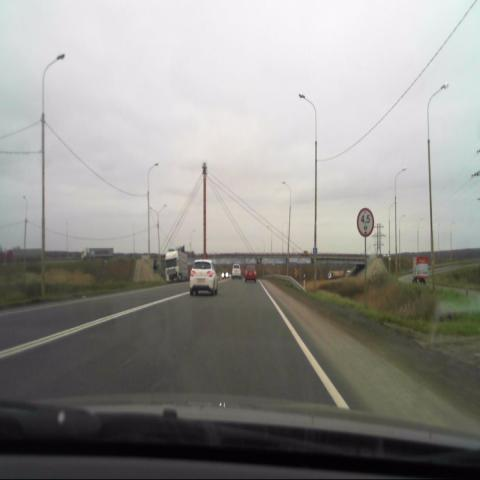3_13: (356, 208, 374, 238)
